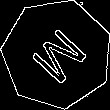M_SE: (22, 20, 91, 88)
